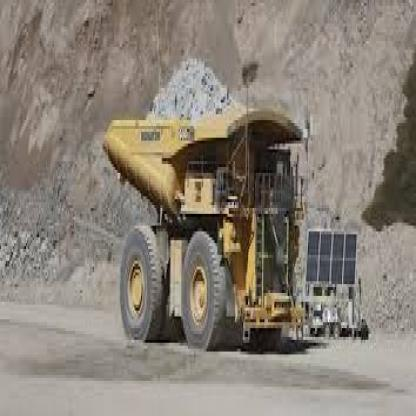dump_truck: (99, 70, 308, 354)
